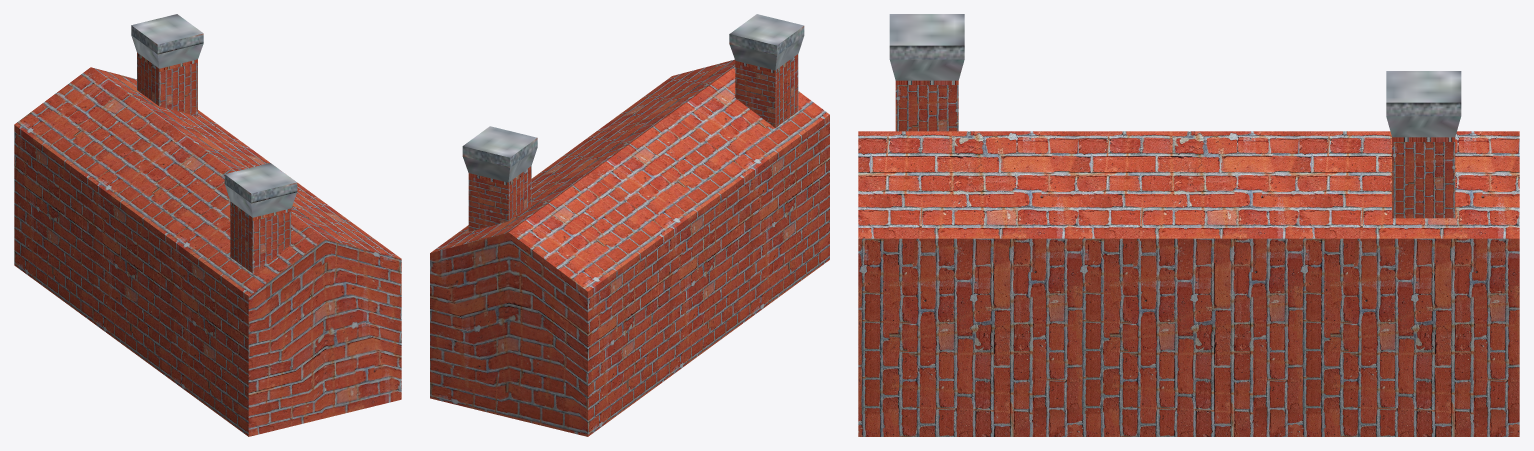
File: Top_(3x1).fbx
3 renders of one model, left to right at view 1: azimuth 30°, elevation 25°; view 2: azimuth 150°, elevation 25°; view 3: azimuth 270°, elevation 25°, orthographic. The views are drawn at different scales.
Parts seen in each view (by area): view 1: PreSet.004; view 2: PreSet.004; view 3: PreSet.004.
Part boxes in pixels (left/top/right/bottom): PreSet.004: left=14, top=14, right=401, bottom=436; PreSet.004: left=430, top=14, right=829, bottom=436; PreSet.004: left=858, top=14, right=1519, bottom=436.
Size of the model in its own units: 604 by 330 by 228.
